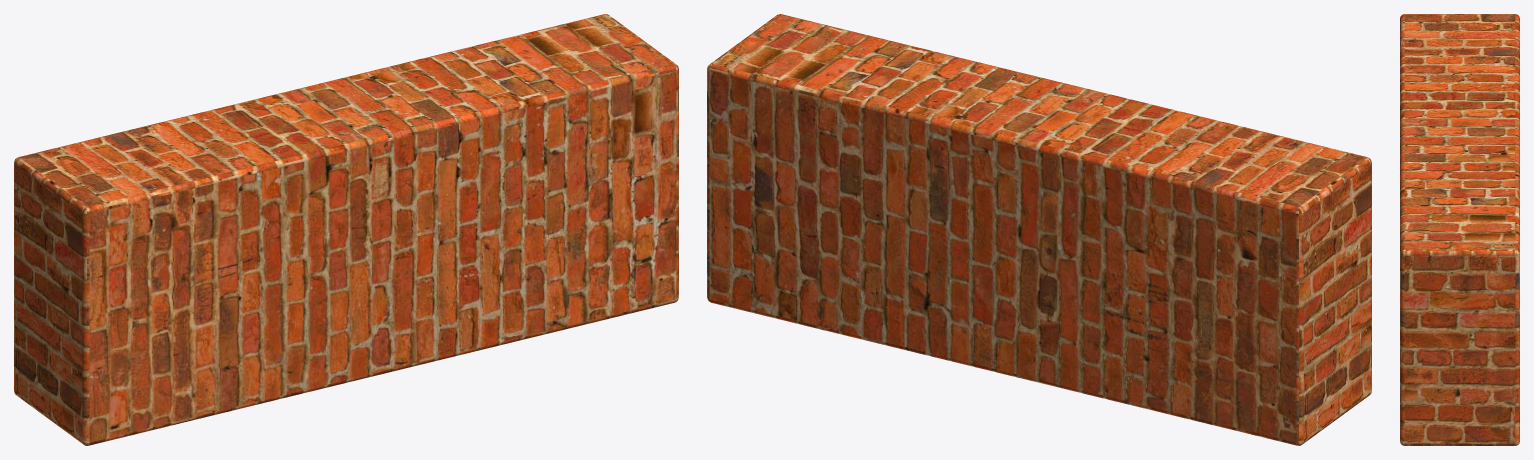
The picture shows the model from 3 angles, left to right: view 1: azimuth 30°, elevation 25°; view 2: azimuth 150°, elevation 25°; view 3: azimuth 270°, elevation 25°; orthographic projection. The views are drawn at different scales.
Visible parts, largest first — view 1: Chamfer_Box__43427_ChamferBox_0; view 2: Chamfer_Box__43427_ChamferBox_0; view 3: Chamfer_Box__43427_ChamferBox_0.
Boxes of the visible parts, bbox=[...] form: Chamfer_Box__43427_ChamferBox_0: bbox=[14, 14, 678, 445]; Chamfer_Box__43427_ChamferBox_0: bbox=[707, 14, 1371, 445]; Chamfer_Box__43427_ChamferBox_0: bbox=[1400, 14, 1519, 445].
Size of the model in its own units: 18.85 by 7.21 by 4.
